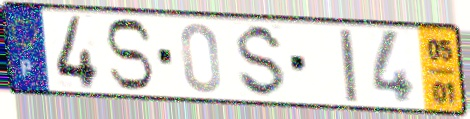0: (178, 21, 224, 96)
4: (370, 27, 417, 110), (53, 12, 101, 92)
I: (336, 27, 361, 105)
S: (235, 22, 289, 101), (102, 16, 156, 94)
